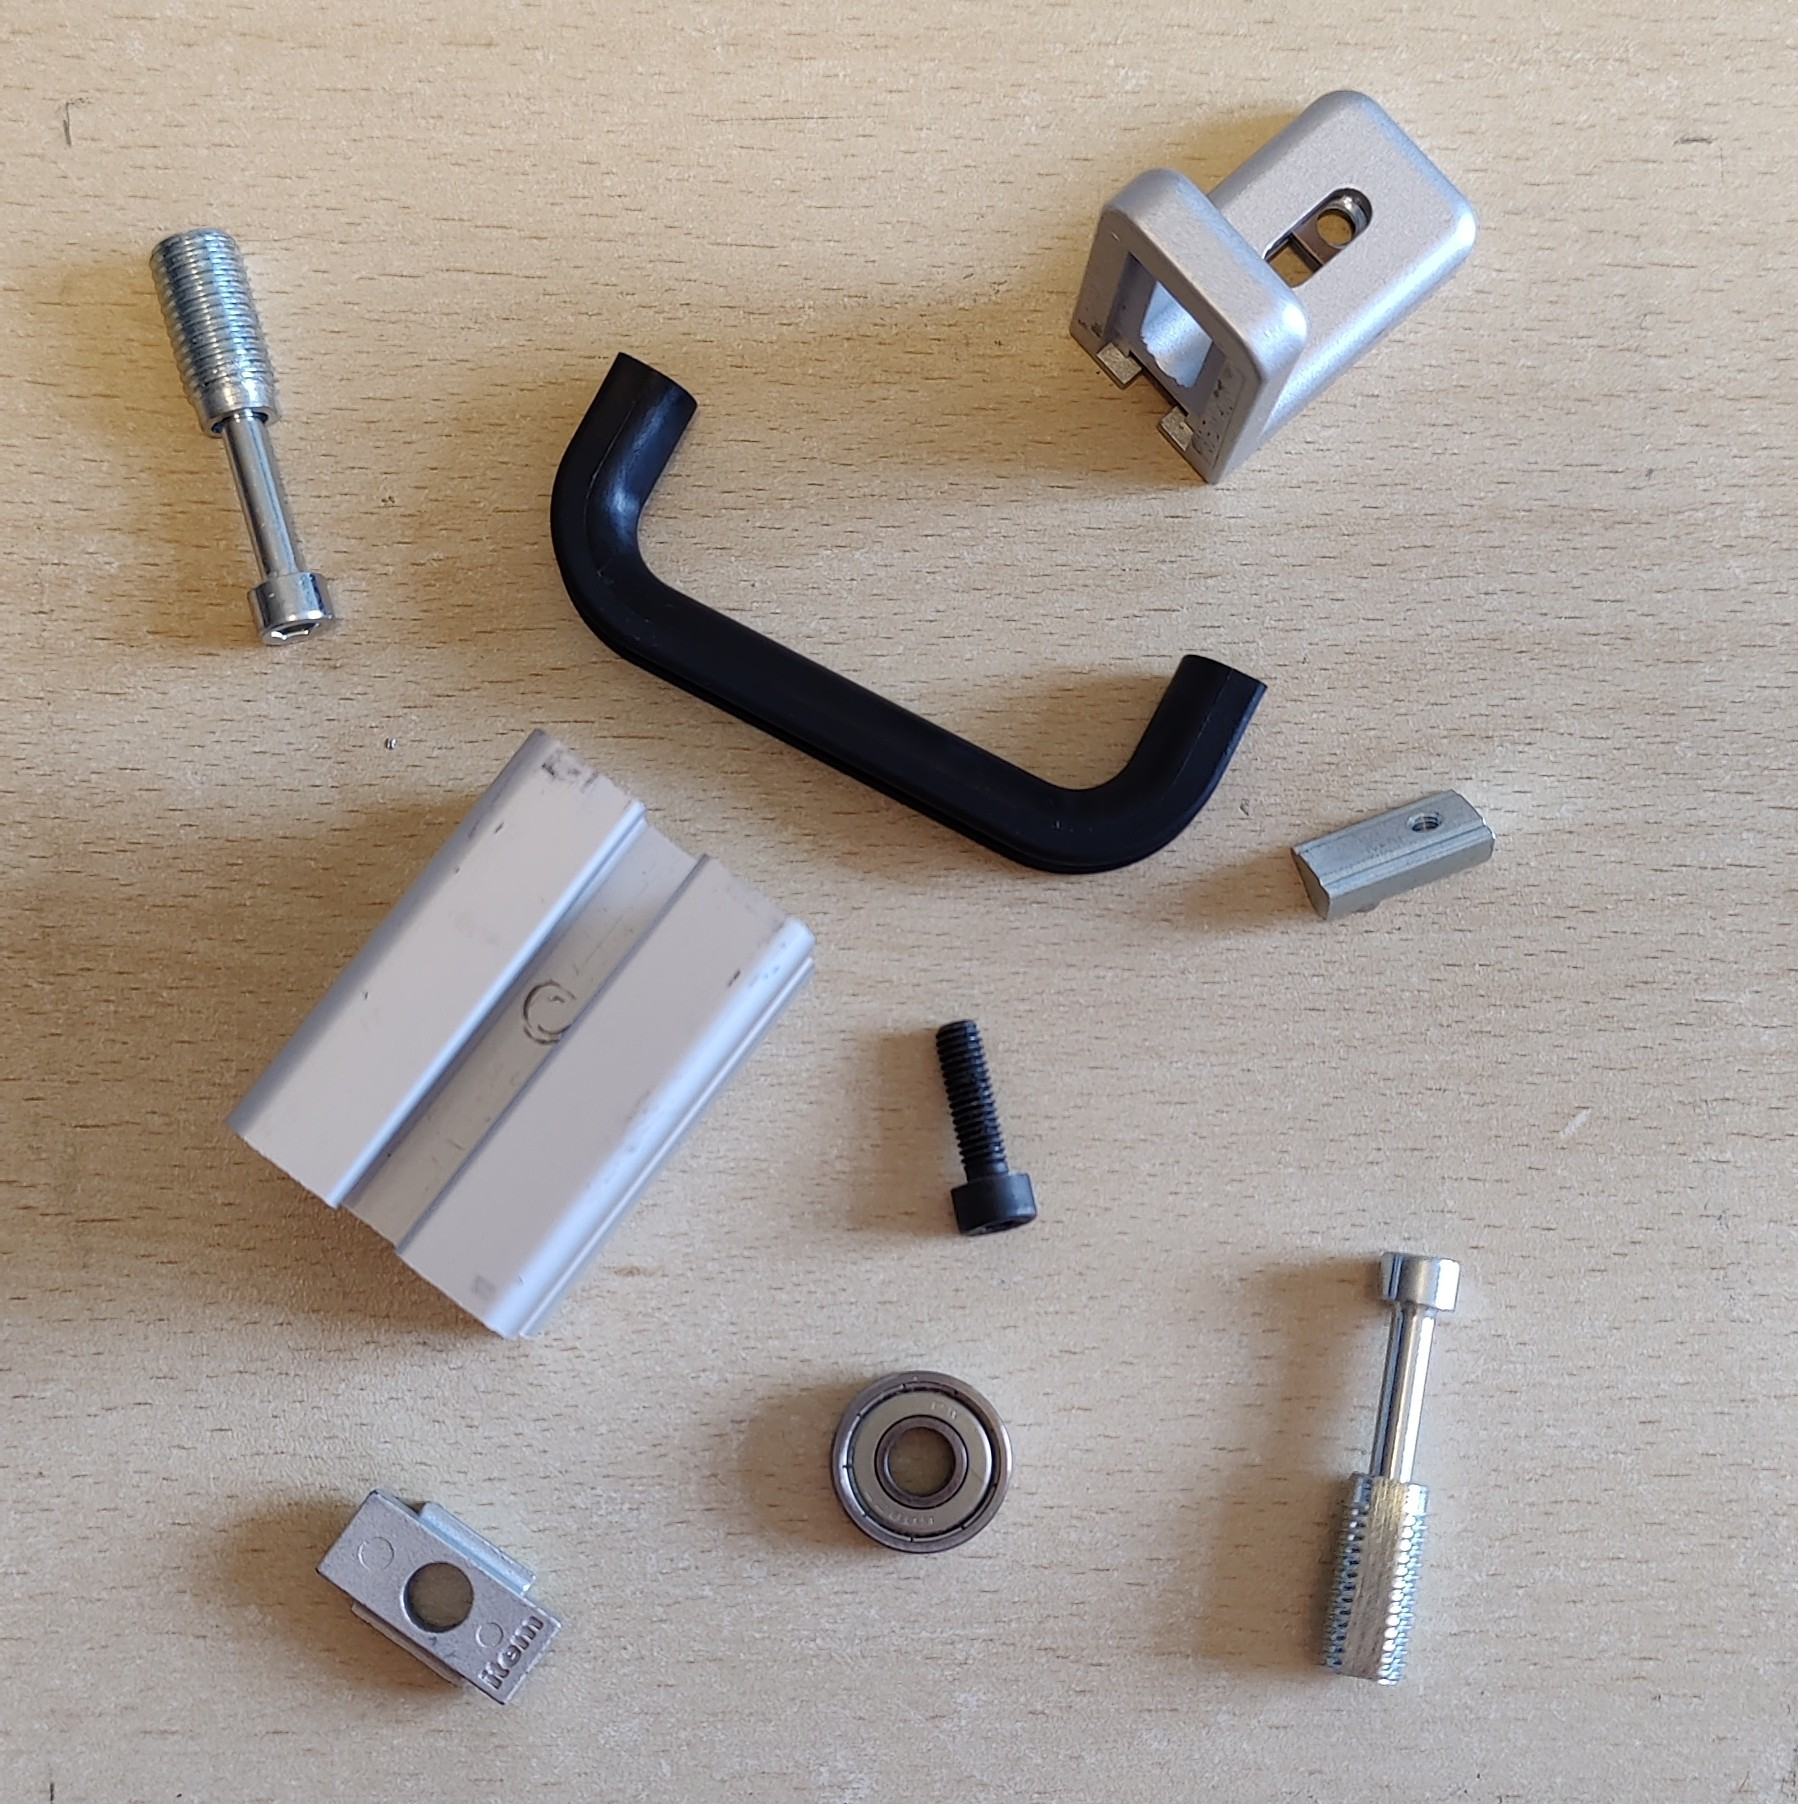Aluminium Extension: (224, 724, 822, 1345)
Ball Bearing: (827, 1368, 1014, 1555)
Multiwinkel: (1065, 86, 1480, 489)
Pull Handle: (545, 351, 1269, 877)
Shoulder Socket Head Cap Screw: (145, 225, 339, 652), (1317, 1244, 1462, 1689)
Socket Head Cap Screw: (930, 1016, 1041, 1241)
T Nut Square: (314, 1488, 565, 1710)
T Spring Nut: (1284, 787, 1498, 925)
